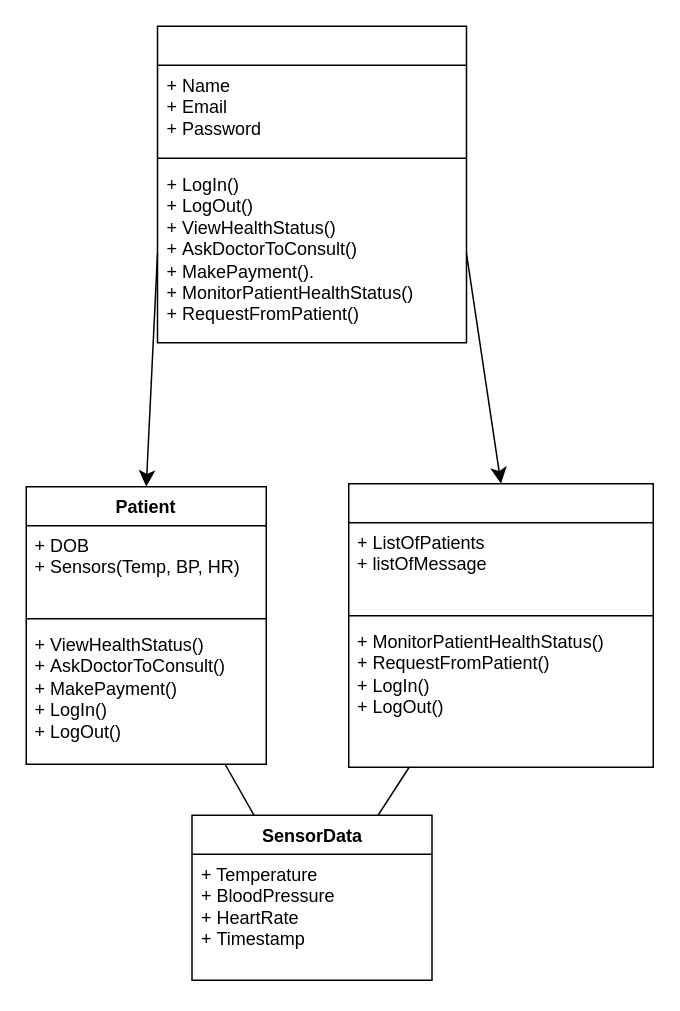
The diagram is 680 pixels wide and 1011 high, and some of its shapes have lost their labels. Here are the shapes that lost their labels. From the top down, the box of each, then its label:
(156, 25, 466, 343): User
(347, 482, 653, 767): Docter
